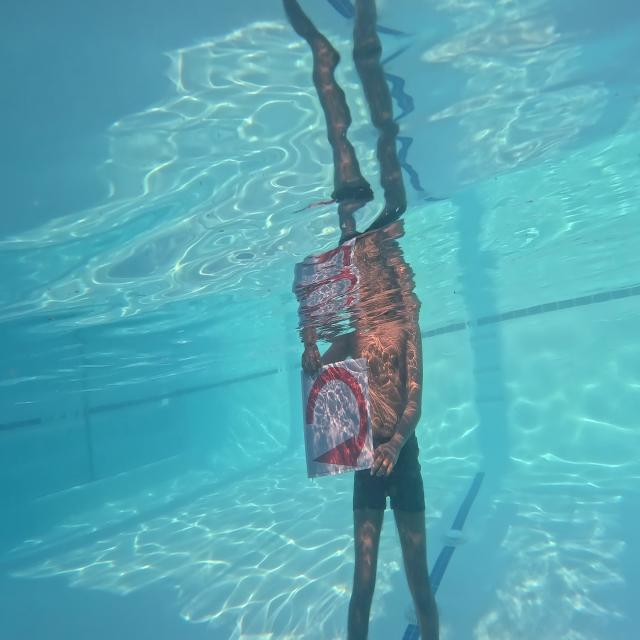red_side: (300, 360, 373, 474)
